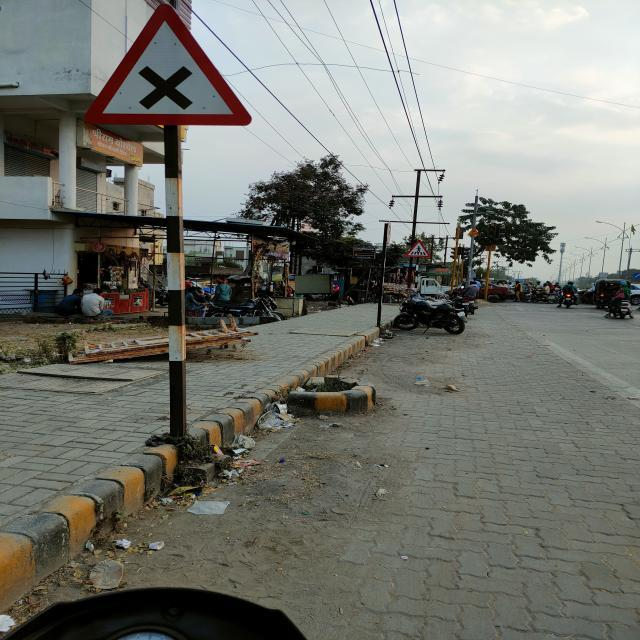cross road: (84, 6, 252, 128)
